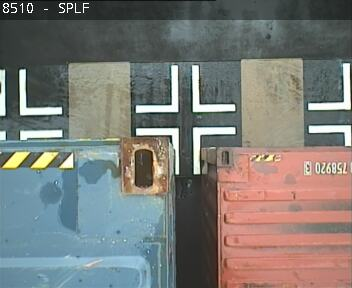groundmarker_1: (133, 66, 237, 113), (136, 127, 236, 173)
